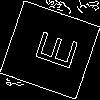E: (25, 25, 79, 72)
